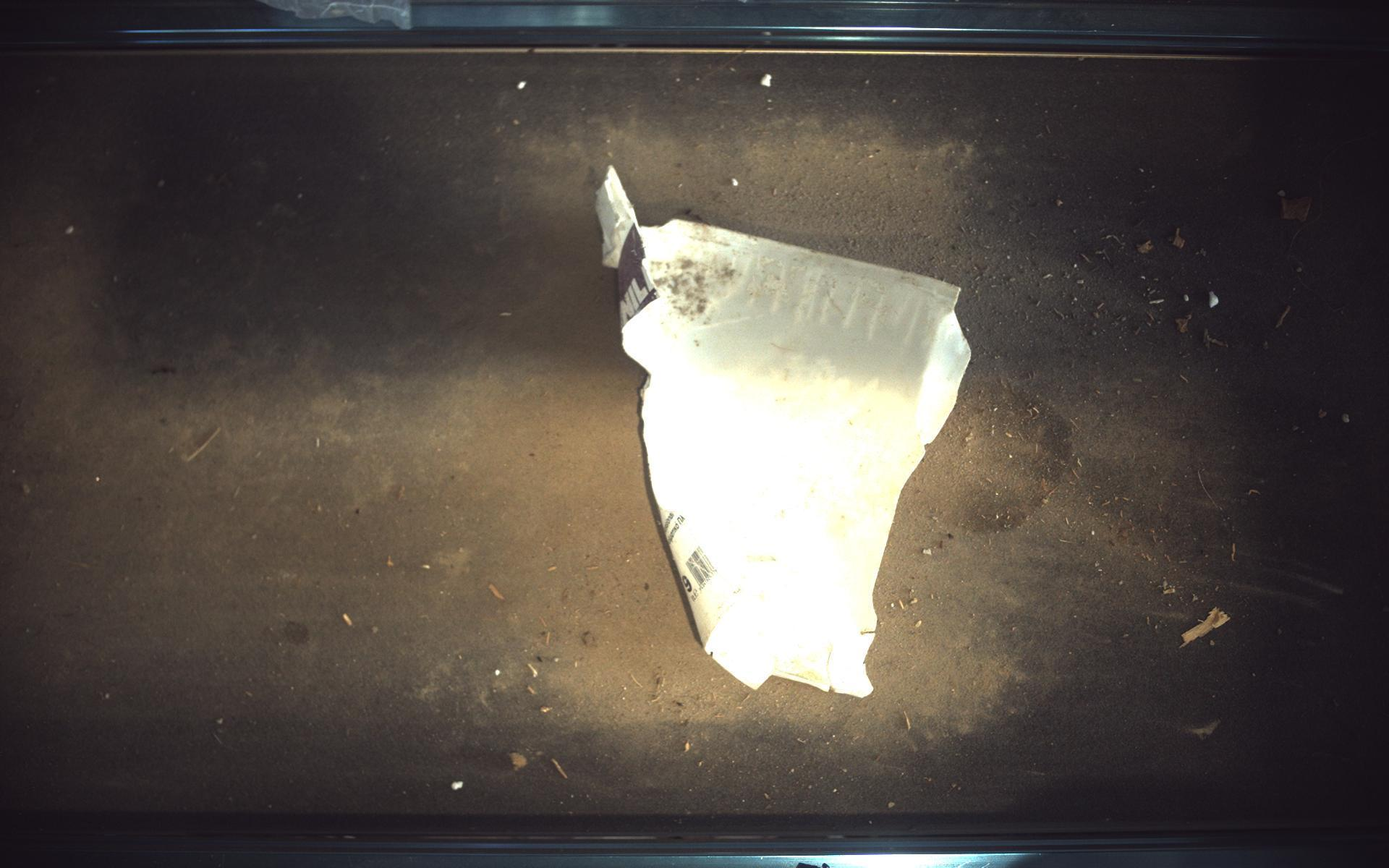plastic: (597, 165, 972, 698)
